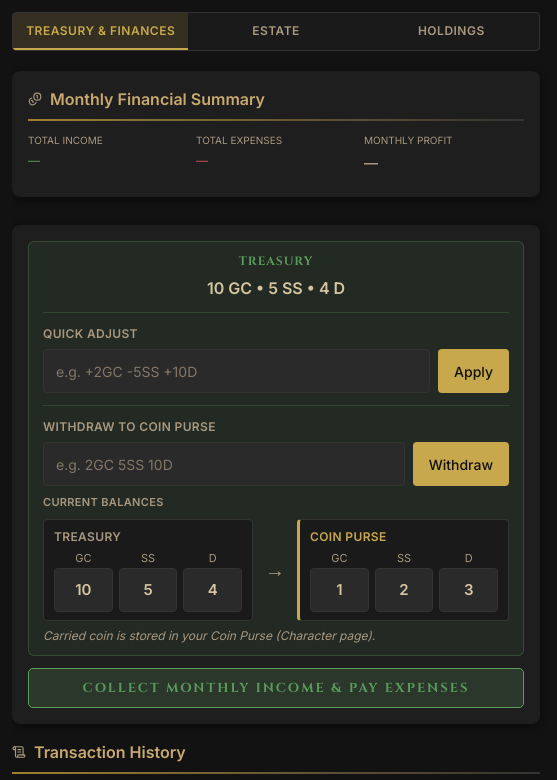
Test: EstatePage — Withdraw_Control (Treasury panel) › shows a breakdown tooltip (current +/- transferred = result) on a resulting balance
Type "2GC" into the field named "Withdraw amount". click: {"x": 224, "y": 464}
box: x1=43 y1=442 x2=405 y2=486
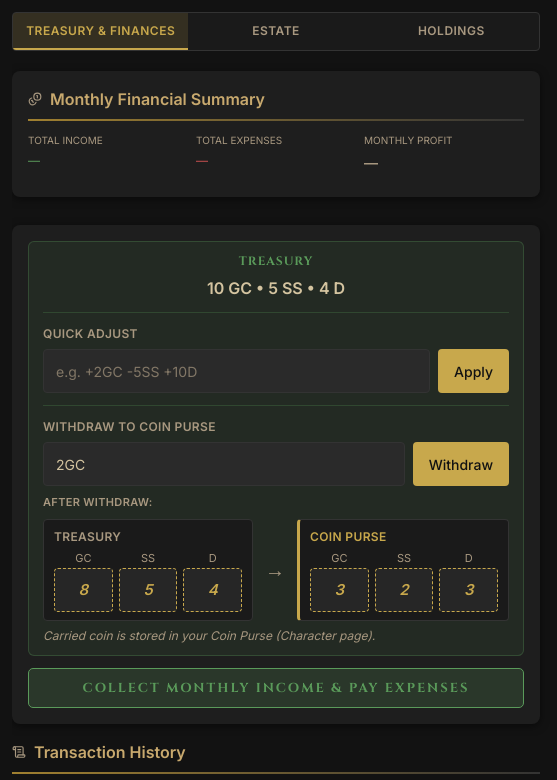
// Open the tooltip for the source (treasury) GC result cell.
Click the button with test id "transfer-withdraw-source-gc". click: {"x": 83, "y": 590}
box: x1=54 y1=568 x2=113 y2=612
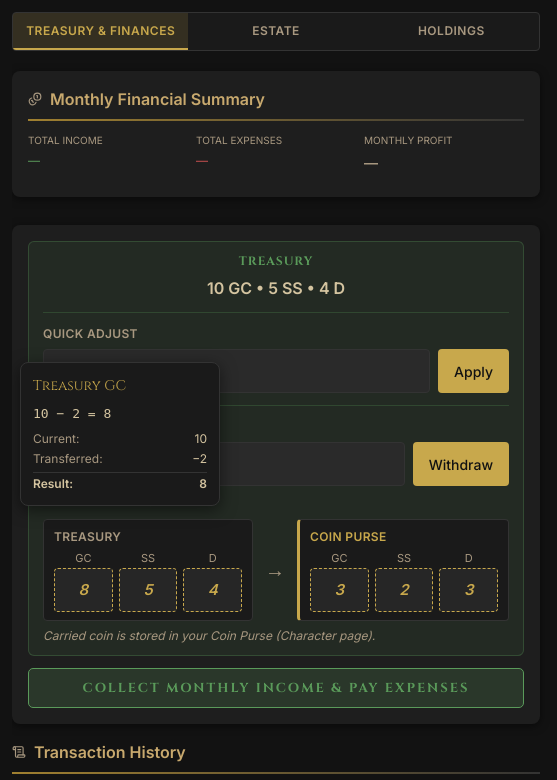
expect the text "10 − 2 = 8" is shown: met, box x1=33 y1=406 x2=111 y2=421
// Open the destination (wealth) GC cell and check the additive breakdown.
Click the button with test id "transfer-withdraw-destination-gc". click: {"x": 339, "y": 590}
box: x1=310 y1=568 x2=369 y2=612
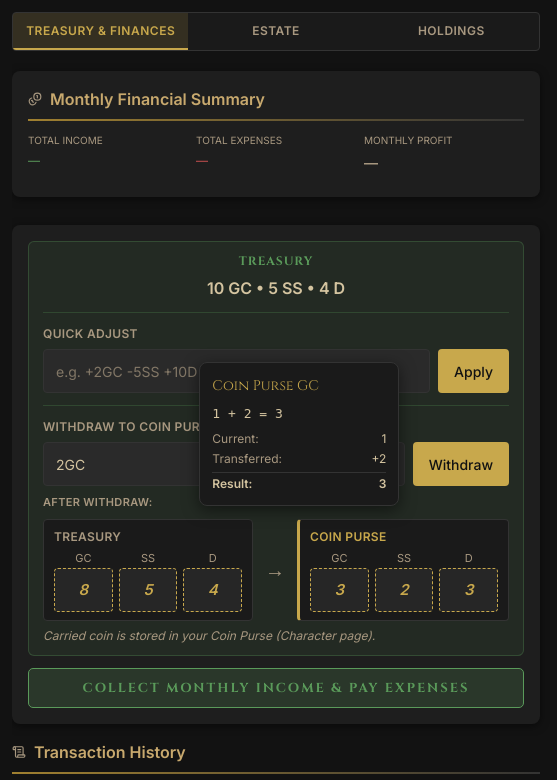
expect the text "1 + 2 = 3" is shown: met, box x1=212 y1=406 x2=283 y2=421
